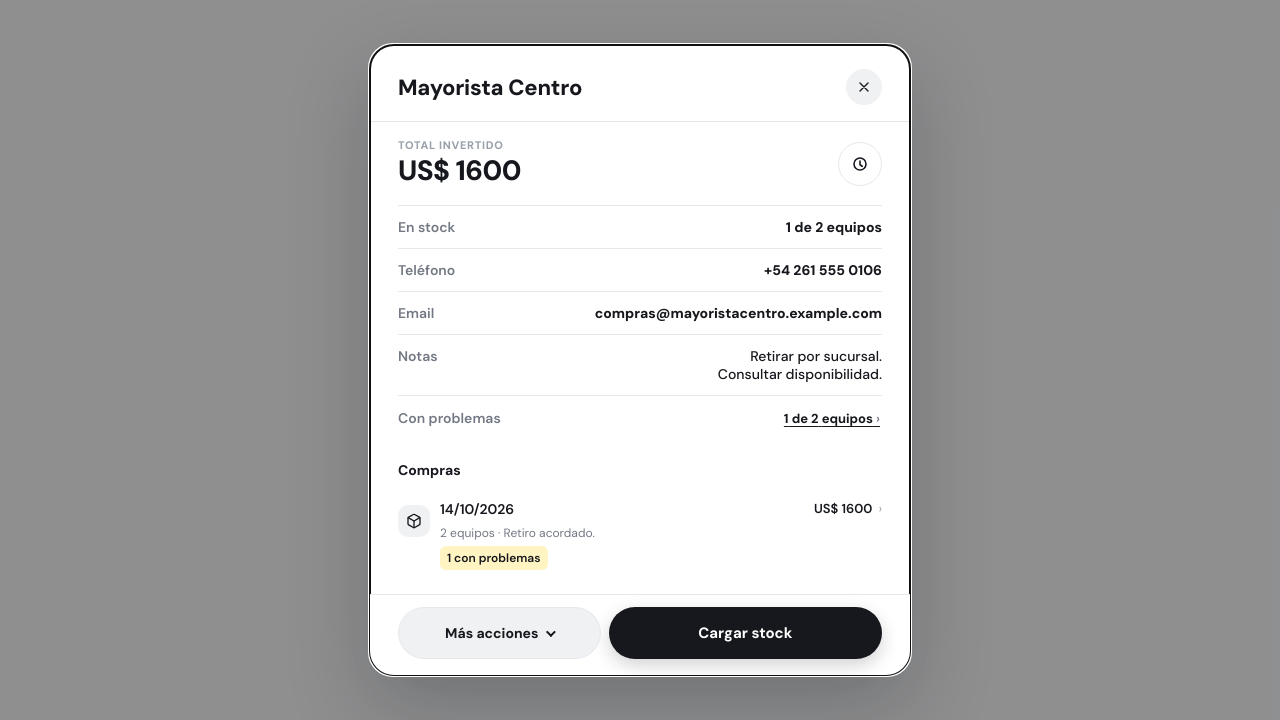
Test: ficha de proveedor › opens paginated supplier history only from its icon and returns to the same file
Expected: the element with test id "supplier-detail" is shown, [398, 138, 882, 570]
Expected: the text "Se registró Mayorista Centro." is not shown
Click the button named "Historial" at (860,164), box [838, 142, 882, 186]
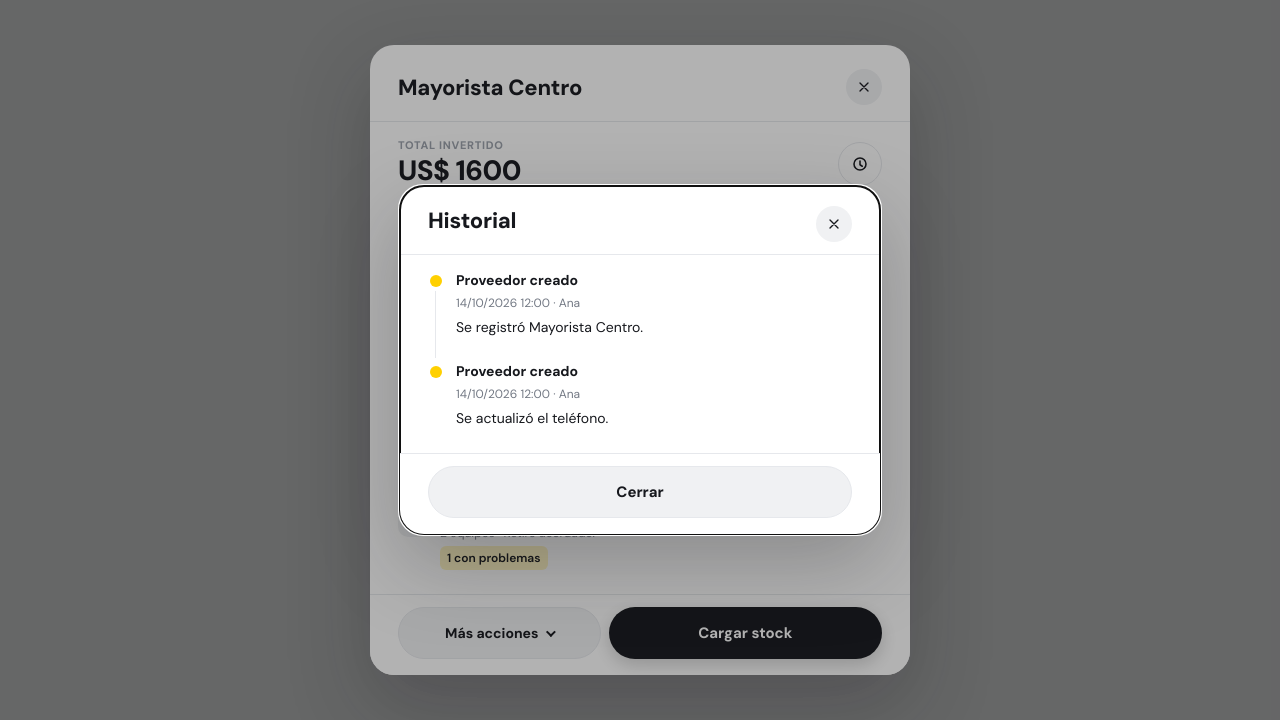
Now the text "Se registró Mayorista Centro." is shown, box [456, 318, 643, 336]
Now the text "Se actualizó el teléfono." is shown, box [456, 409, 608, 427]
Press Escape
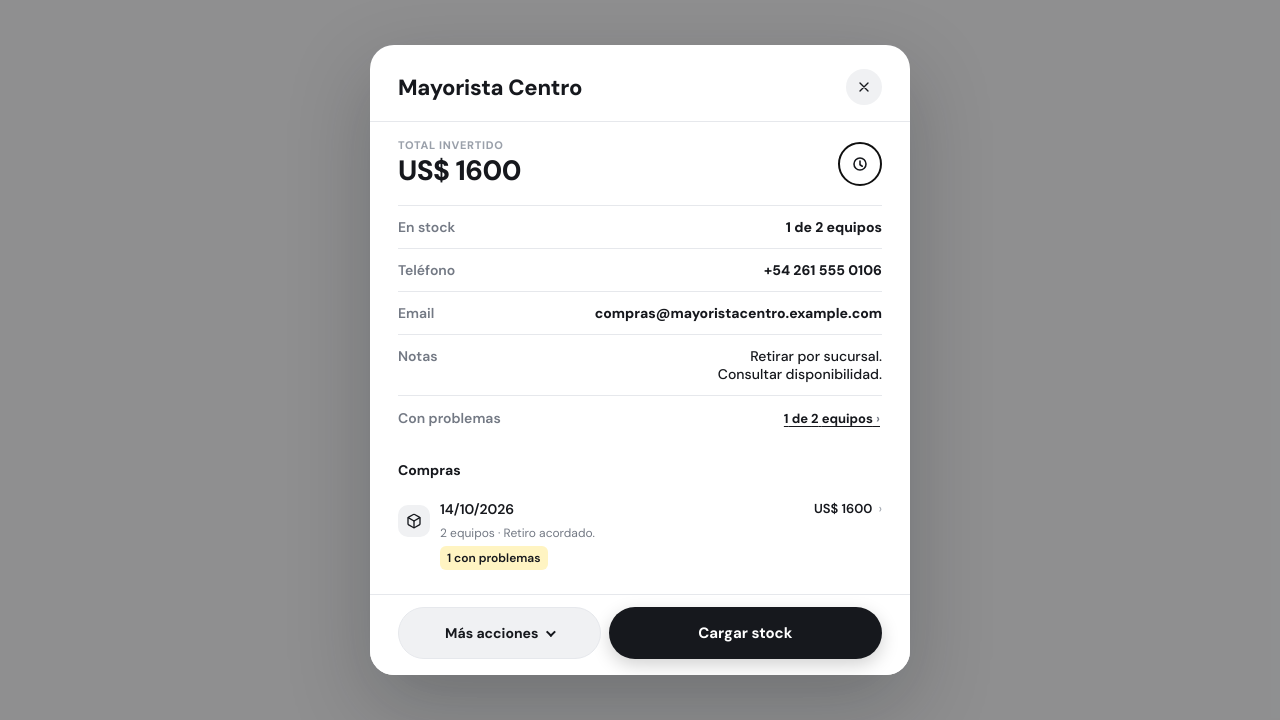
Expected: the element with test id "supplier-detail" is shown, [398, 138, 882, 570]
Now the heading "Historial" is gone
